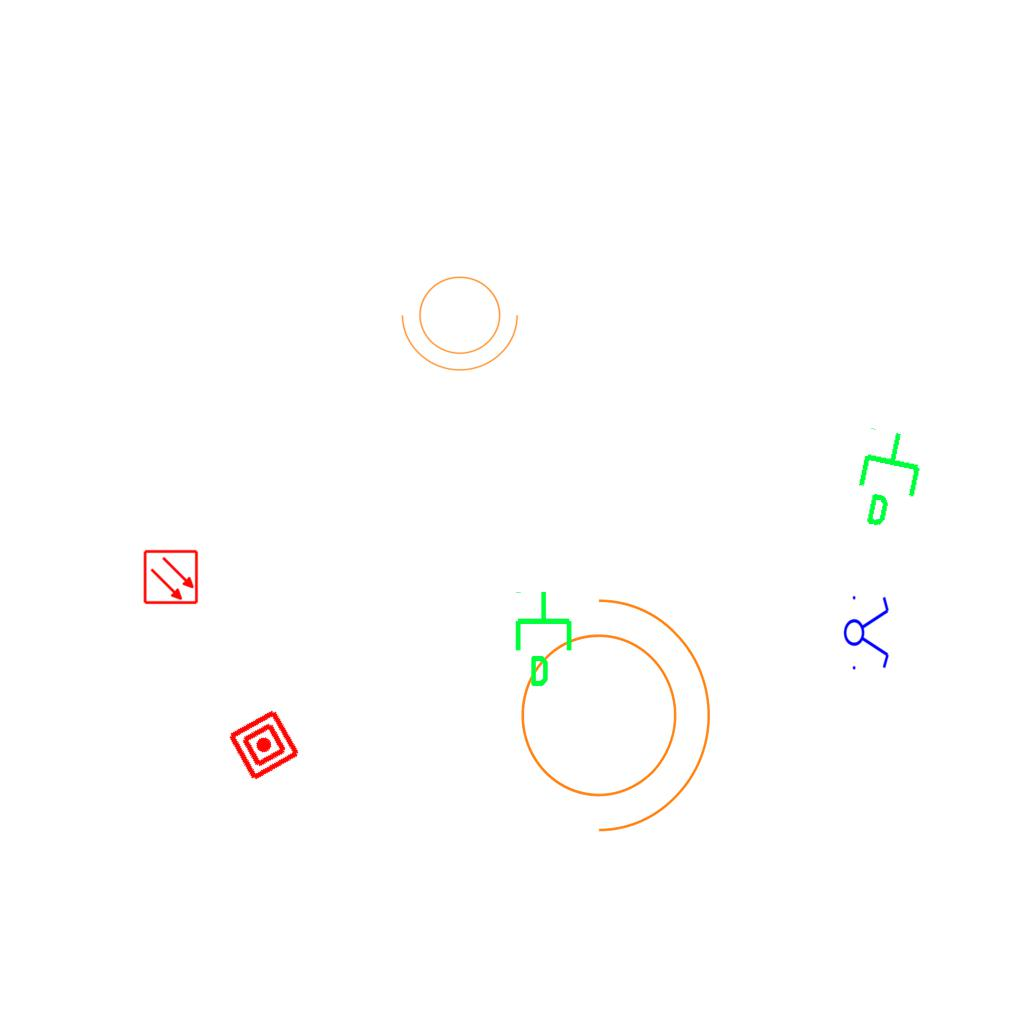Datenanschluss_einfach: (846, 423, 935, 537), (511, 589, 580, 689)
NAM-Nichtautomatischer_Melder: (225, 706, 303, 784)
RMO_Rauchmelder_optischer: (143, 549, 199, 605)
Scheinwerfer_fuer_Alarmbeleuchtung: (496, 577, 721, 841), (397, 264, 529, 376)
Serienschalter: (843, 590, 891, 674)
